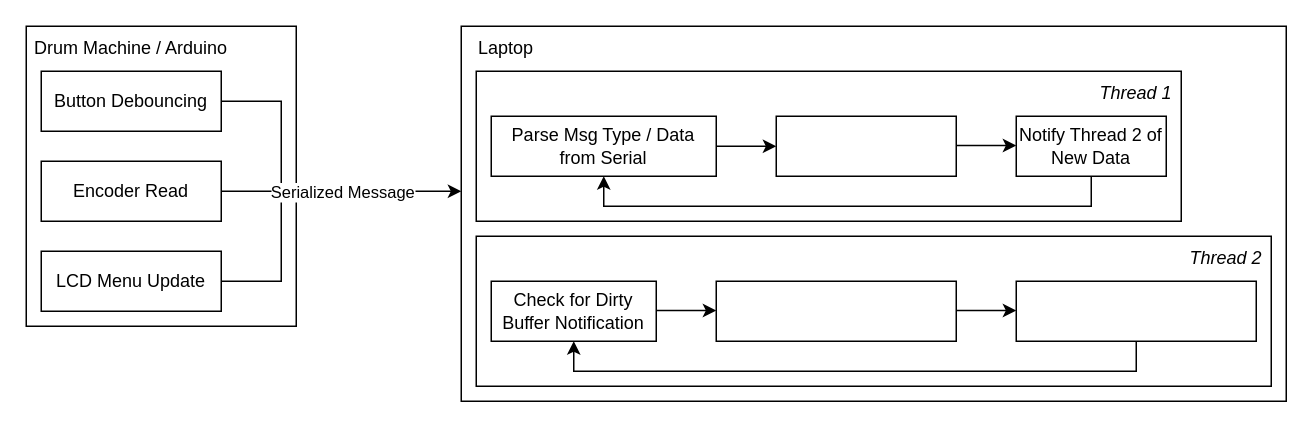
Some shapes in this 1313 by 428 pixel diagram are drawn without their labels. The centre of each missing label's shape, as x and y in pixels:
"Load in chunk of audio data to live SFML player" goes at point 1135,310.
"Modify Intermate Shared Data Buffer" goes at point 865,145.
"Swap Intermediate Shared Data Buffer into Live Buffer" goes at point 835,310.
